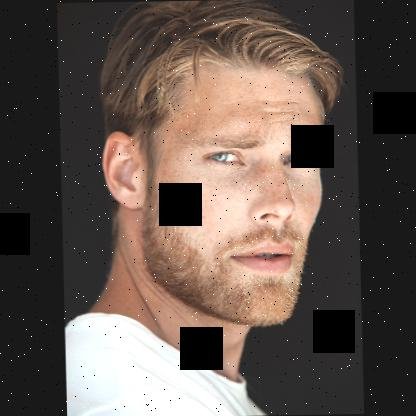Male: (96, 56, 331, 328)
